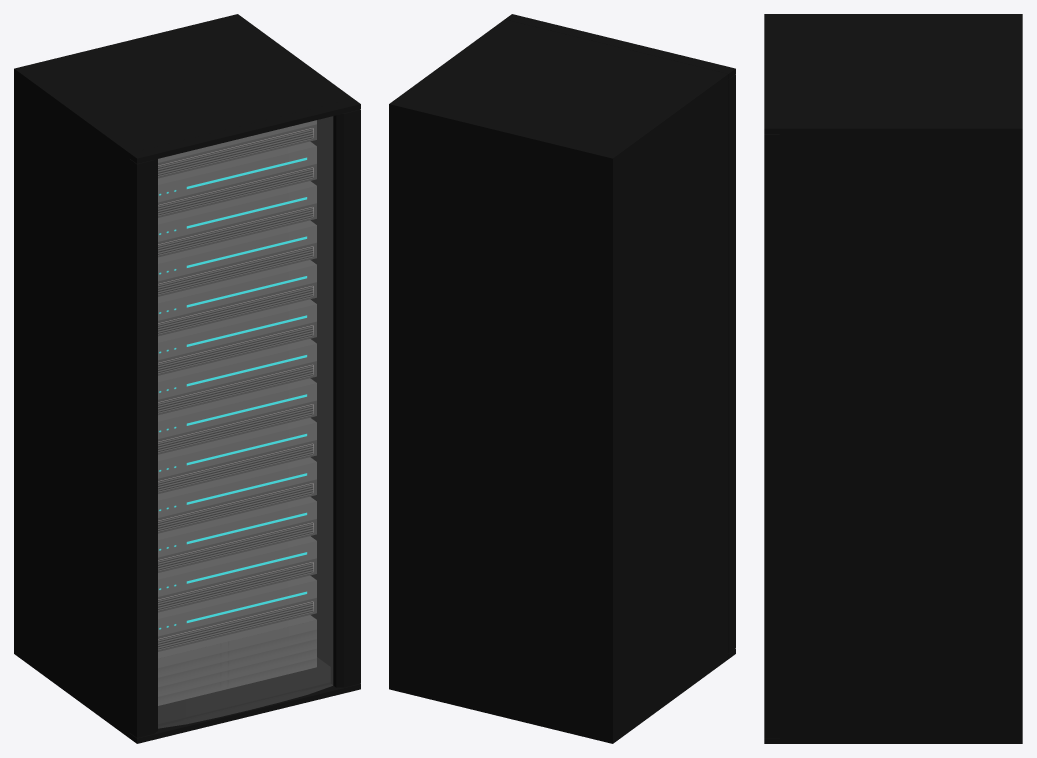
The model's file is server.gltf.
3 views of the same model, side by side, from view 1: azimuth 30°, elevation 25°; view 2: azimuth 150°, elevation 25°; view 3: azimuth 270°, elevation 25° (orthographic). The views are drawn at different scales.
Parts seen in each view (by area): view 1: SERVER, SERVER.001; view 2: SERVER, SERVER.001; view 3: SERVER, SERVER.001.
Part boxes in pixels (x1,y1,x2,y2): SERVER: [14, 14, 352, 738]; SERVER.001: [129, 98, 360, 743]; SERVER: [389, 19, 728, 743]; SERVER.001: [505, 14, 735, 658]; SERVER: [779, 14, 1022, 743]; SERVER.001: [764, 14, 779, 743].
Bounding box in the file's own units: 1.2 × 3 × 1.14.
3 materials, 1 textured.
